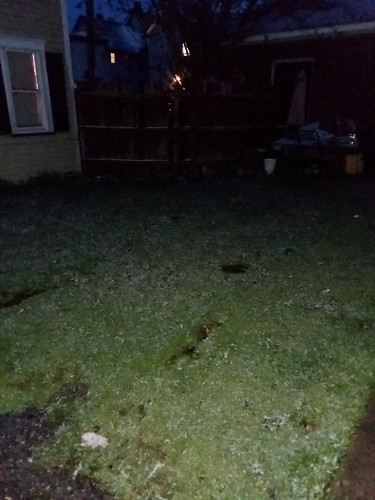building: (1, 1, 83, 181)
grass: (11, 181, 375, 500)
